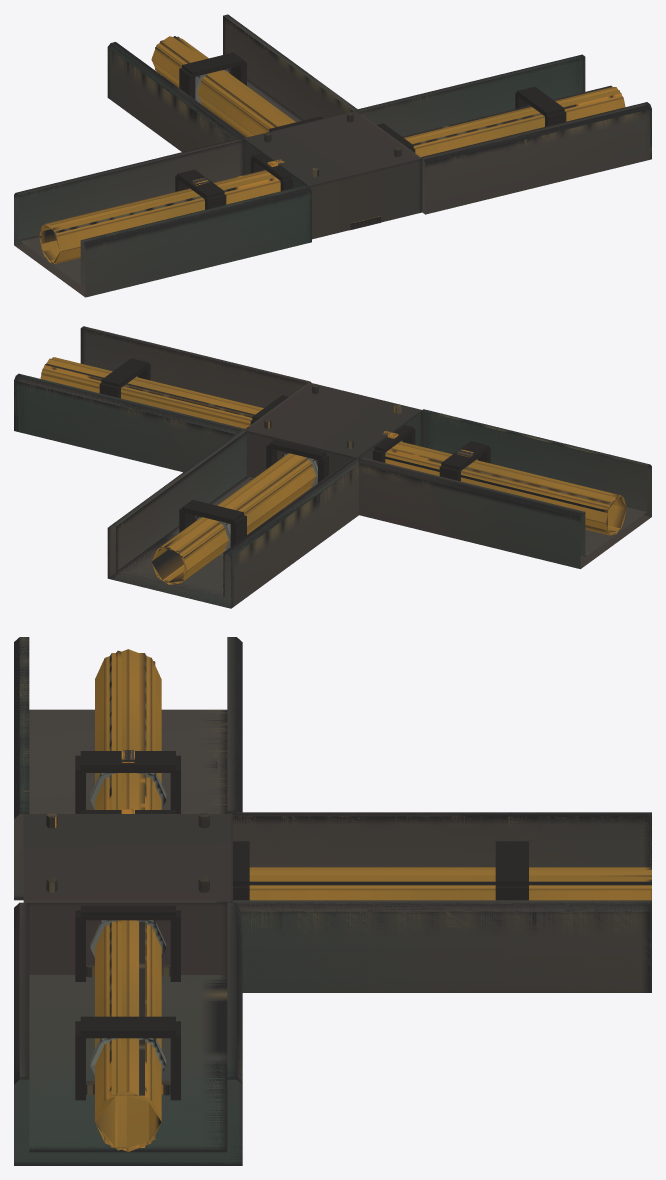
Rendered from place_works_conduit_power_t.glb.
3 renders of one model, top to bottom at view 1: azimuth 30°, elevation 25°; view 2: azimuth 150°, elevation 25°; view 3: azimuth 270°, elevation 25°, orthographic. The views are drawn at different scales.
Visible parts, largest first — view 1: LOD0_Merged_Material_Atlas, LOD1_Merged_Material_Atlas, LOD2_Merged_Material_Atlas; view 2: LOD0_Merged_Material_Atlas, LOD1_Merged_Material_Atlas, LOD2_Merged_Material_Atlas; view 3: LOD0_Merged_Material_Atlas, LOD1_Merged_Material_Atlas, LOD2_Merged_Material_Atlas.
Part boxes in pixels (x1=…): LOD0_Merged_Material_Atlas: x1=14, y1=14, x2=651, y2=297; LOD1_Merged_Material_Atlas: x1=14, y1=14, x2=651, y2=296; LOD2_Merged_Material_Atlas: x1=41, y1=36, x2=619, y2=263; LOD0_Merged_Material_Atlas: x1=14, y1=326, x2=651, y2=608; LOD1_Merged_Material_Atlas: x1=14, y1=327, x2=651, y2=608; LOD2_Merged_Material_Atlas: x1=41, y1=357, x2=626, y2=582; LOD0_Merged_Material_Atlas: x1=14, y1=637, x2=651, y2=1165; LOD1_Merged_Material_Atlas: x1=14, y1=637, x2=651, y2=1165; LOD2_Merged_Material_Atlas: x1=95, y1=650, x2=651, y2=1150.
Size of the model in its own units: 2.2 by 0.225 by 1.34.
1 material, 1 textured.
